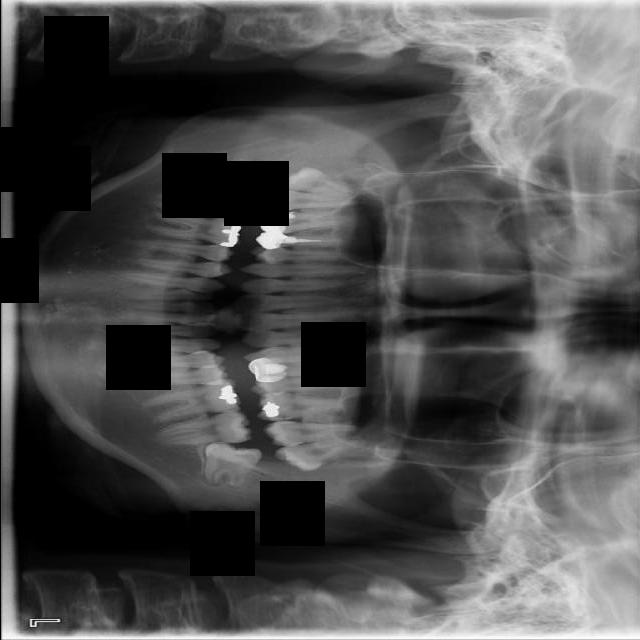3M ESPE Implant: (276, 163, 367, 199)
52: (253, 207, 295, 253), (194, 378, 240, 416), (199, 212, 243, 249), (206, 188, 247, 219), (246, 356, 288, 385), (255, 392, 296, 421), (250, 244, 289, 265)
73: (280, 232, 347, 247), (80, 577, 81, 595)
BioHorizons Implant: (261, 420, 355, 446)
BioLife Implant: (272, 436, 373, 475)
Biomet 3i Implant: (200, 440, 263, 491)
Blue Sky Bio Implant: (152, 408, 253, 452)
Caries: (257, 189, 357, 212)
Implant: (149, 191, 247, 217)
Keystone Dental Implant: (190, 155, 254, 194)
